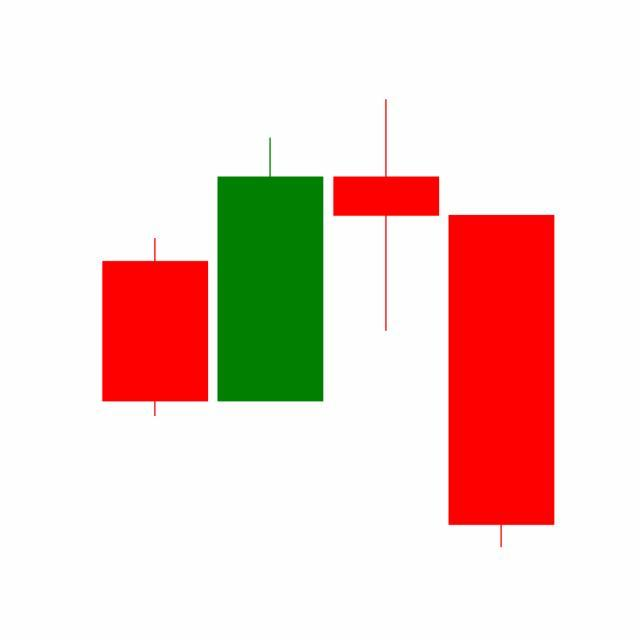Spinning Top: (329, 97, 445, 335)
